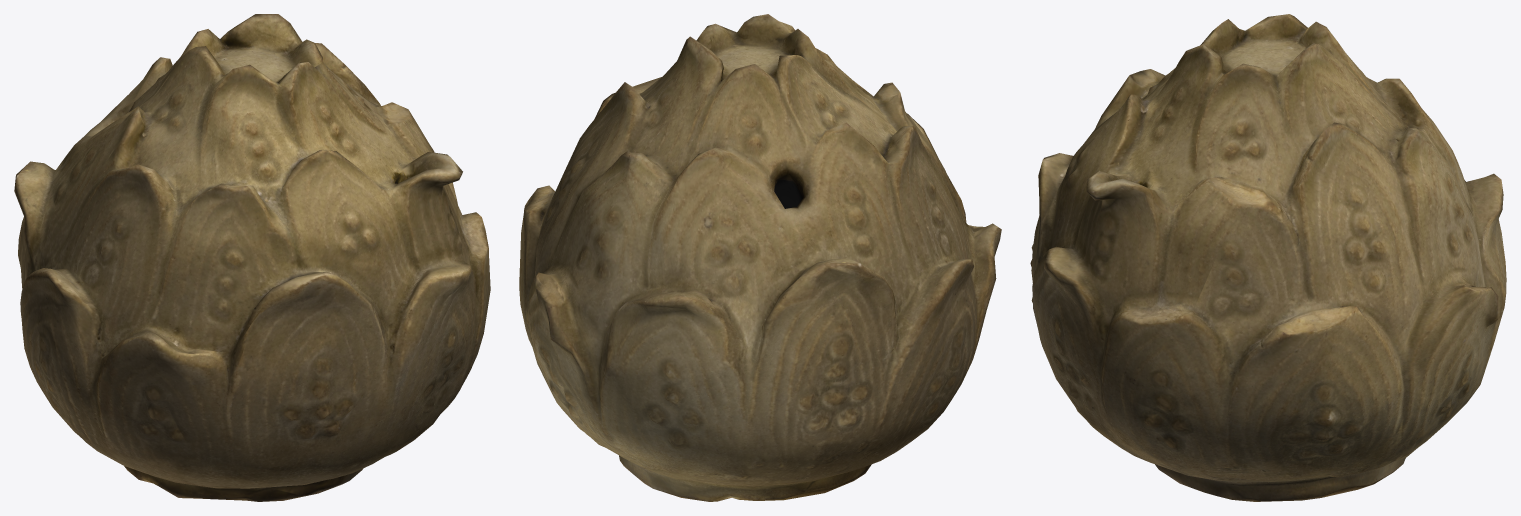
The model's file is SM_Water_Dropper_01.fbx.
The picture shows the model from 3 angles, left to right: view 1: azimuth 30°, elevation 25°; view 2: azimuth 150°, elevation 25°; view 3: azimuth 270°, elevation 25°; orthographic projection.
Parts seen in each view (by area): view 1: KCDF_2022_prop_Water_Dropper_01_Mesh; view 2: KCDF_2022_prop_Water_Dropper_01_Mesh; view 3: KCDF_2022_prop_Water_Dropper_01_Mesh.
Part boxes in pixels (bbox=[...]): KCDF_2022_prop_Water_Dropper_01_Mesh: bbox=[14, 14, 490, 501]; KCDF_2022_prop_Water_Dropper_01_Mesh: bbox=[519, 14, 1001, 501]; KCDF_2022_prop_Water_Dropper_01_Mesh: bbox=[1030, 14, 1506, 501].
Bounding box in the file's own units: 23.43 × 22.39 × 22.89.
Materials: 1 (1 with a texture image).
